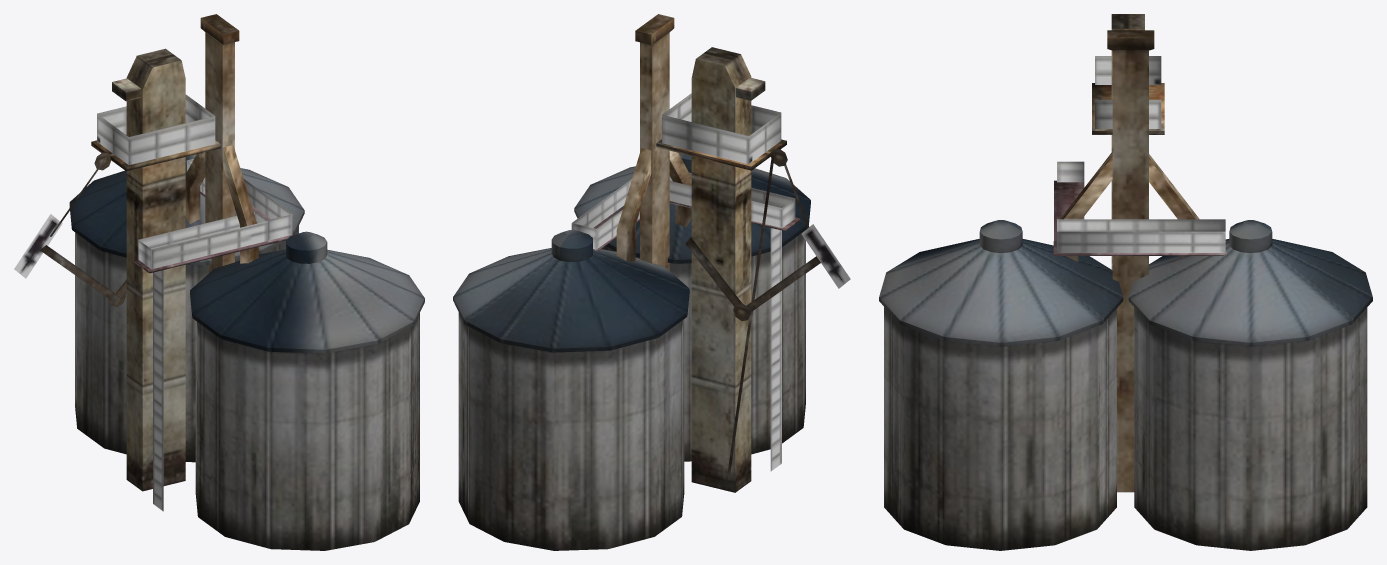
Rendered from WaterTank.FBX.
3 views of the same model, side by side, from view 1: azimuth 30°, elevation 25°; view 2: azimuth 150°, elevation 25°; view 3: azimuth 270°, elevation 25° (orthographic). The views are drawn at different scales.
Visible parts, largest first — view 1: Tank1, tan_02, Tank2, tan_01, tan_03, Tran1, 3, 2, Tran2, 1; view 2: Tank2, tan_02, Tank1, tan_03, tan_01, Tran1, 2, Tran2, 3; view 3: Tank1, Tank2, tan_03, tan_01, Tran1, tan_02, 3, 2, 1.
Boxes of the visible parts, <box> form: Tank1: <box>190,231,424,550</box>; tan_02: <box>40,48,220,491</box>; Tank2: <box>69,154,304,462</box>; tan_01: <box>138,158,292,511</box>; tan_03: <box>200,14,239,272</box>; Tran1: <box>97,94,215,165</box>; 3: <box>223,145,258,263</box>; 2: <box>185,152,205,223</box>; Tran2: <box>14,214,62,278</box>; 1: <box>134,241,268,273</box>; Tank2: <box>453,229,689,550</box>; tan_02: <box>656,47,820,492</box>; Tank1: <box>574,153,810,461</box>; tan_03: <box>635,14,674,270</box>; tan_01: <box>571,172,795,471</box>; Tran1: <box>662,93,781,164</box>; 2: <box>616,148,651,261</box>; Tran2: <box>801,224,850,288</box>; 3: <box>669,151,691,227</box>; Tank1: <box>879,220,1123,550</box>; Tank2: <box>1128,220,1372,550</box>; tan_03: <box>1107,30,1154,492</box>; tan_01: <box>1057,161,1225,252</box>; Tran1: <box>1095,56,1161,128</box>; tan_02: <box>1092,14,1164,269</box>; 3: <box>1060,151,1112,261</box>; 2: <box>1149,154,1199,257</box>; 1: <box>1054,180,1084,240</box>.
Bounding box in the file's own units: 2205 × 2783 × 2834.
